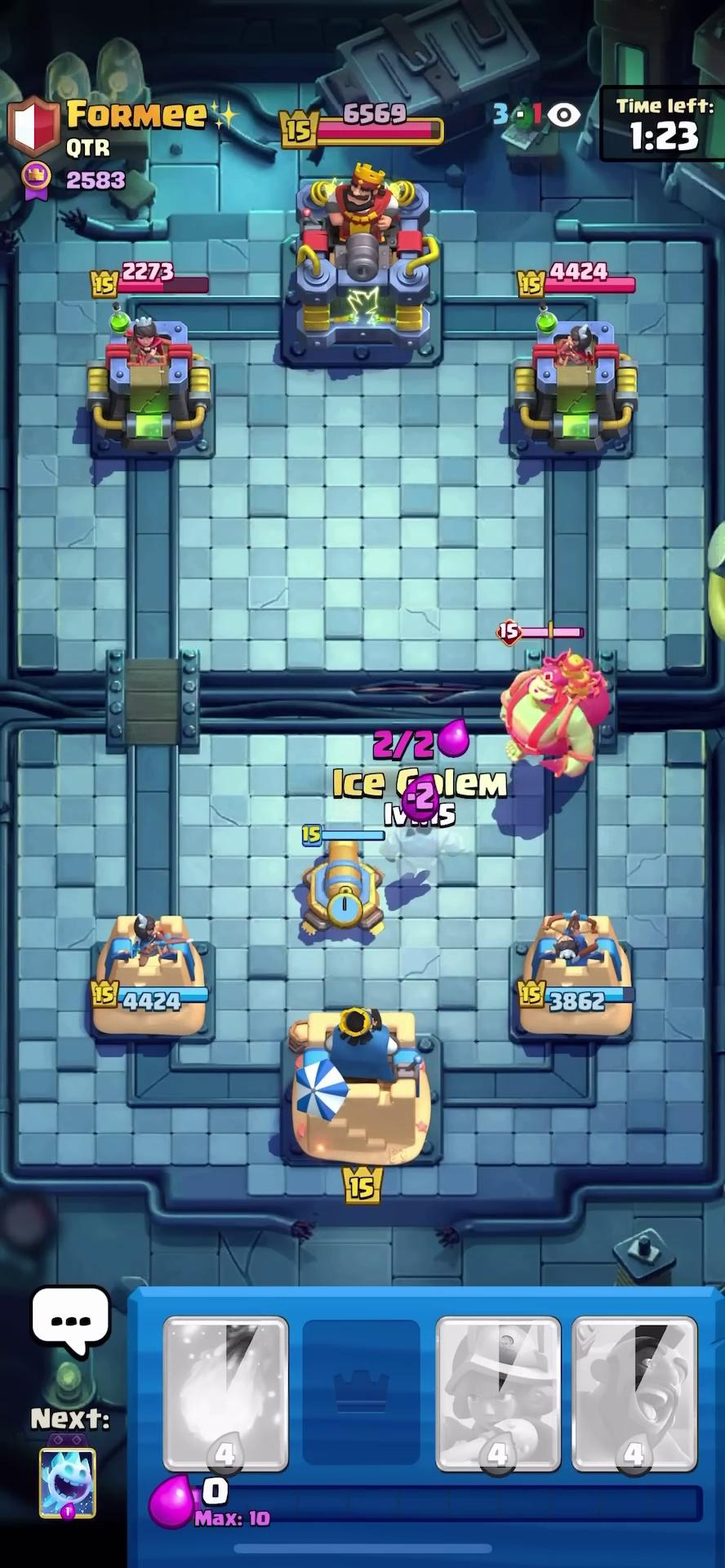cannon: (292, 813, 398, 945)
